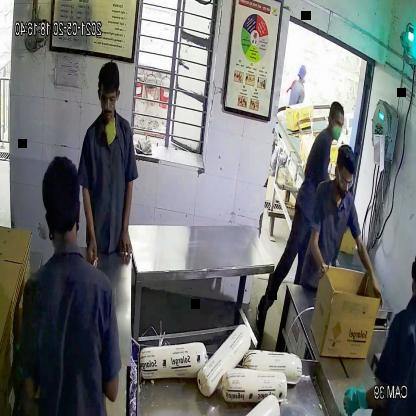goggles: (94, 82, 121, 114), (334, 170, 356, 191)
